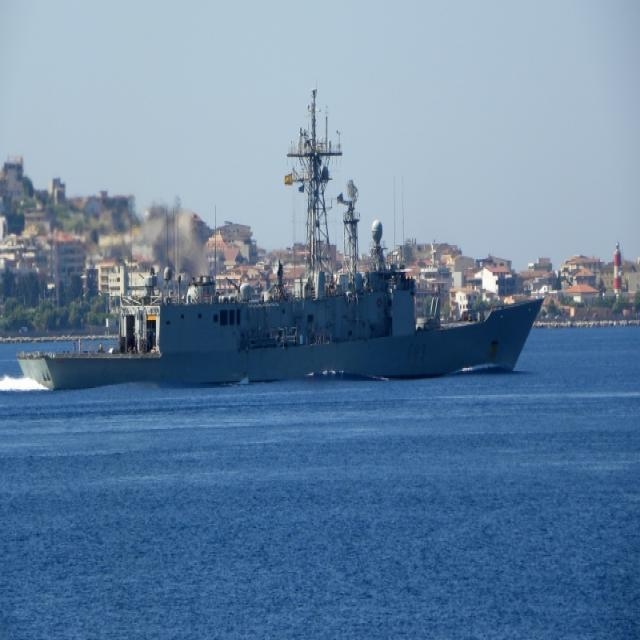Fragata: (18, 87, 547, 402)
